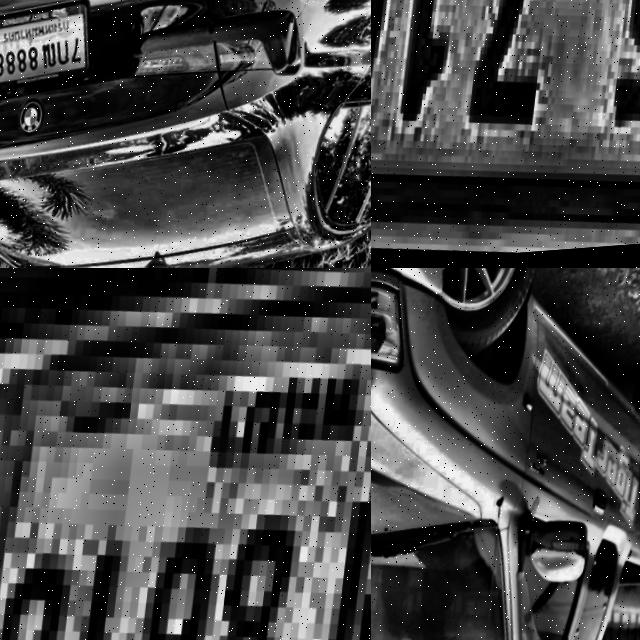license-plate: (0, 268, 371, 640), (371, 0, 640, 268), (0, 0, 97, 99)
